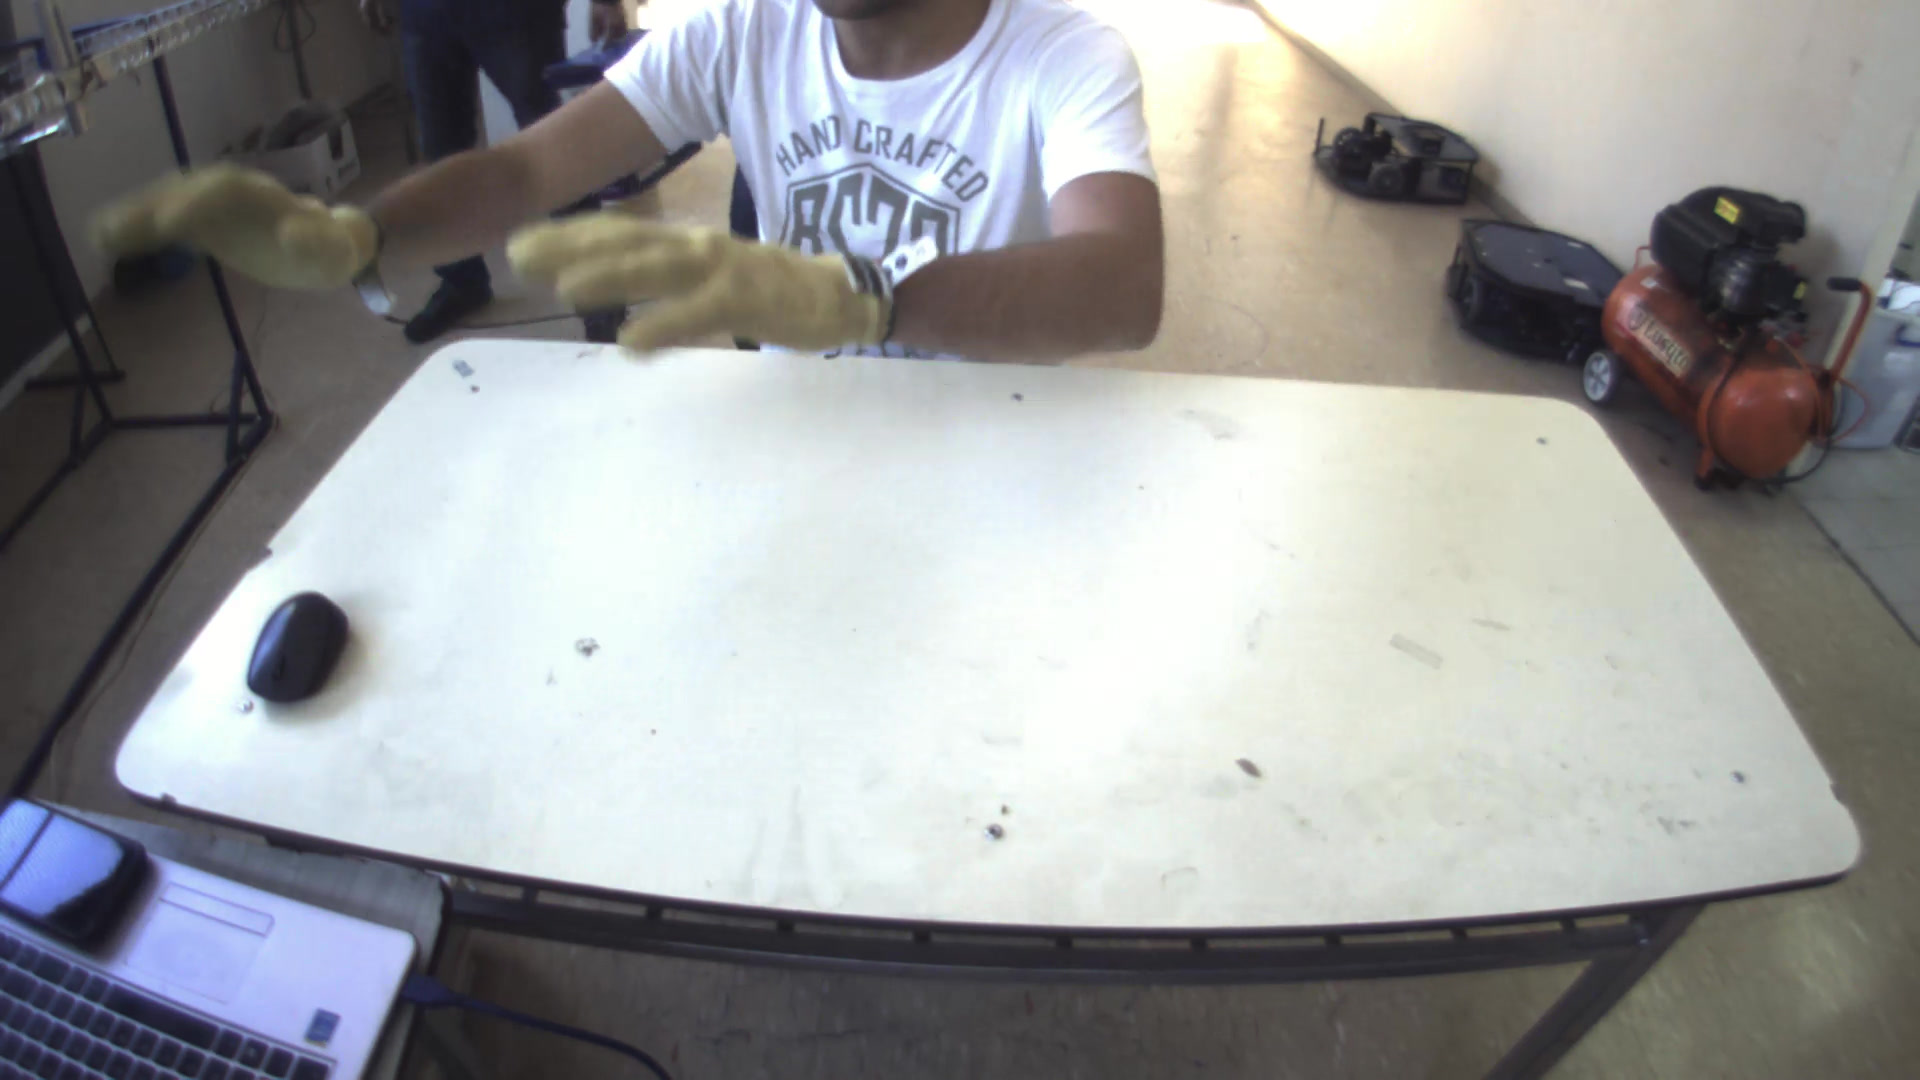hand: (491, 189, 910, 361), (91, 141, 373, 294)
